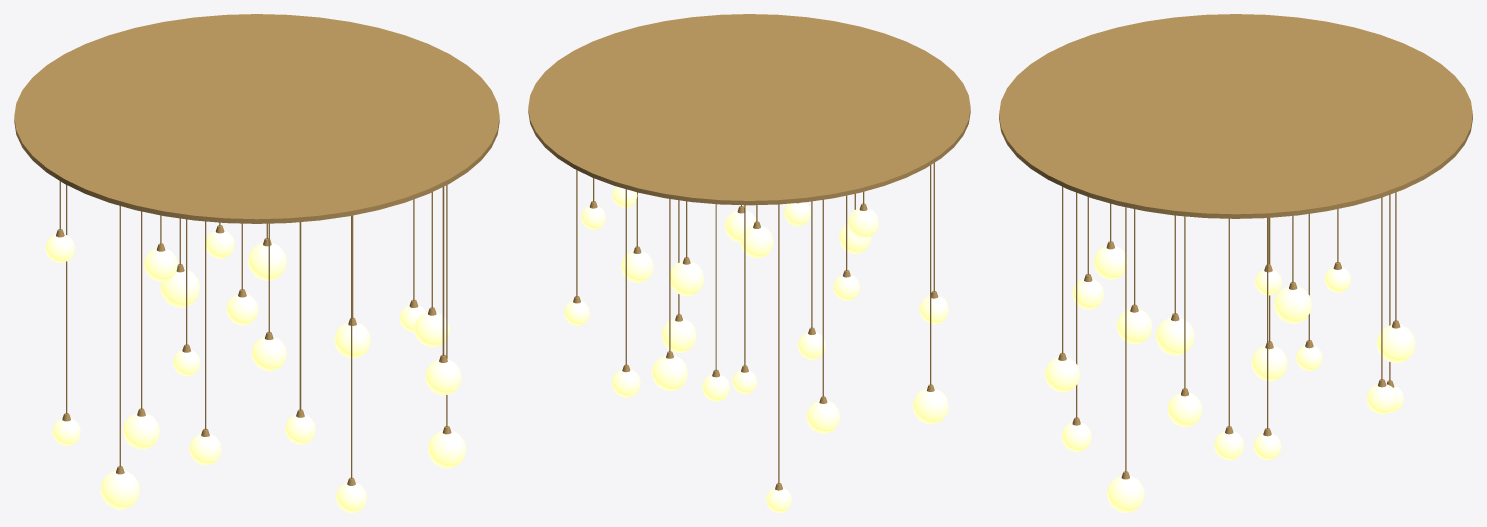
The model's file is pendant_cloud.glb.
3 renders of one model, left to right at view 1: azimuth 30°, elevation 25°; view 2: azimuth 150°, elevation 25°; view 3: azimuth 270°, elevation 25°, orthographic. The views are drawn at different scales.
Visible parts, largest first — view 1: Plate_LOD0, Globe_LOD0.015, Globe_LOD0.018, Globe_LOD0.006, Globe_LOD0.011, Globe_LOD0.010, Globe_LOD0.013, Globe_LOD0.014, Globe_LOD0.009, Globe_LOD0.017, Globe_LOD0.001, Globe_LOD0.004 (+8 smaller); view 2: Plate_LOD0, Globe_LOD0.011, Globe_LOD0.015, Globe_LOD0.006, Globe_LOD0.018, Globe_LOD0.010, Globe_LOD0.014, Globe_LOD0.017, Globe_LOD0.001, Globe_LOD0.007, Globe_LOD0.013, Globe_LOD0.004 (+8 smaller); view 3: Plate_LOD0, Globe_LOD0.011, Globe_LOD0.015, Globe_LOD0.006, Globe_LOD0.018, Globe_LOD0.014, Globe_LOD0.013, Globe_LOD0.010, Globe_LOD0.017, Globe_LOD0.009, Globe_LOD0.007, Globe_LOD0.004 (+7 smaller).
Boxes of the visible parts, <box> form: Plate_LOD0: <box>14,14,499,223</box>; Globe_LOD0.015: <box>100,470,139,509</box>; Globe_LOD0.018: <box>428,430,466,468</box>; Globe_LOD0.006: <box>248,242,286,280</box>; Globe_LOD0.011: <box>160,268,199,307</box>; Globe_LOD0.010: <box>123,413,159,449</box>; Globe_LOD0.013: <box>425,359,461,395</box>; Globe_LOD0.014: <box>334,322,370,358</box>; Globe_LOD0.009: <box>251,336,286,371</box>; Globe_LOD0.017: <box>414,312,449,347</box>; Globe_LOD0.001: <box>144,248,177,281</box>; Globe_LOD0.004: <box>189,433,221,465</box>; Plate_LOD0: <box>528,14,970,205</box>; Globe_LOD0.011: <box>652,355,687,390</box>; Globe_LOD0.015: <box>912,388,948,424</box>; Globe_LOD0.006: <box>669,261,704,296</box>; Globe_LOD0.018: <box>661,318,696,352</box>; Globe_LOD0.010: <box>806,400,839,433</box>; Globe_LOD0.014: <box>740,225,773,258</box>; Globe_LOD0.017: <box>621,250,653,282</box>; Globe_LOD0.001: <box>848,208,878,238</box>; Globe_LOD0.007: <box>612,369,640,397</box>; Globe_LOD0.013: <box>725,210,756,242</box>; Globe_LOD0.004: <box>919,295,948,324</box>; Plate_LOD0: <box>999,14,1472,218</box>; Globe_LOD0.011: <box>1376,325,1415,362</box>; Globe_LOD0.015: <box>1156,317,1194,355</box>; Globe_LOD0.006: <box>1274,286,1311,323</box>; Globe_LOD0.018: <box>1107,475,1144,512</box>; Globe_LOD0.014: <box>1116,309,1152,344</box>; Globe_LOD0.013: <box>1044,357,1080,392</box>; Globe_LOD0.010: <box>1251,345,1287,381</box>; Globe_LOD0.017: <box>1167,393,1202,427</box>; Globe_LOD0.009: <box>1093,246,1127,279</box>; Globe_LOD0.007: <box>1366,384,1397,414</box>; Globe_LOD0.004: <box>1072,278,1103,309</box>.
Size of the model in its own units: 3.7 by 3.02 by 3.7.
